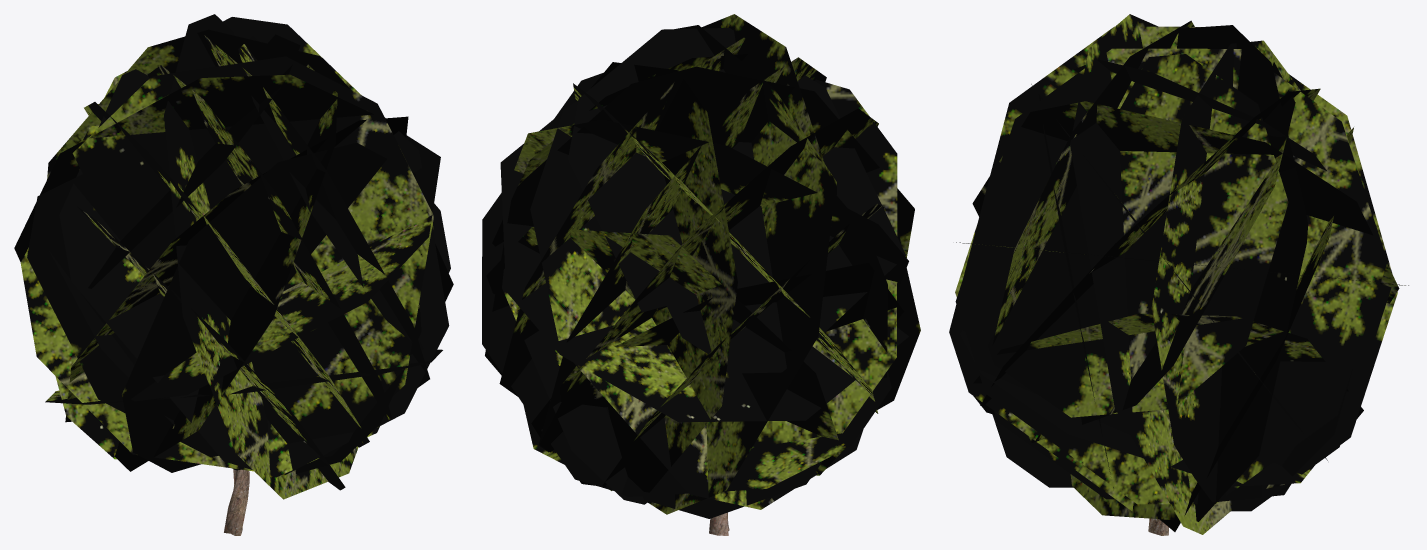
Rendered from mapel.fbx.
The picture shows the model from 3 angles, left to right: view 1: azimuth 30°, elevation 25°; view 2: azimuth 150°, elevation 25°; view 3: azimuth 270°, elevation 25°; orthographic projection. The views are drawn at different scales.
Visible parts, largest first — view 1: tree_no_custom_n; view 2: tree_no_custom_n; view 3: tree_no_custom_n.
Part boxes in pixels (<box>): tree_no_custom_n: <box>14,14,453,535</box>; tree_no_custom_n: <box>482,14,920,535</box>; tree_no_custom_n: <box>949,14,1408,535</box>.
Size of the model in its own units: 573 by 559 by 666.
